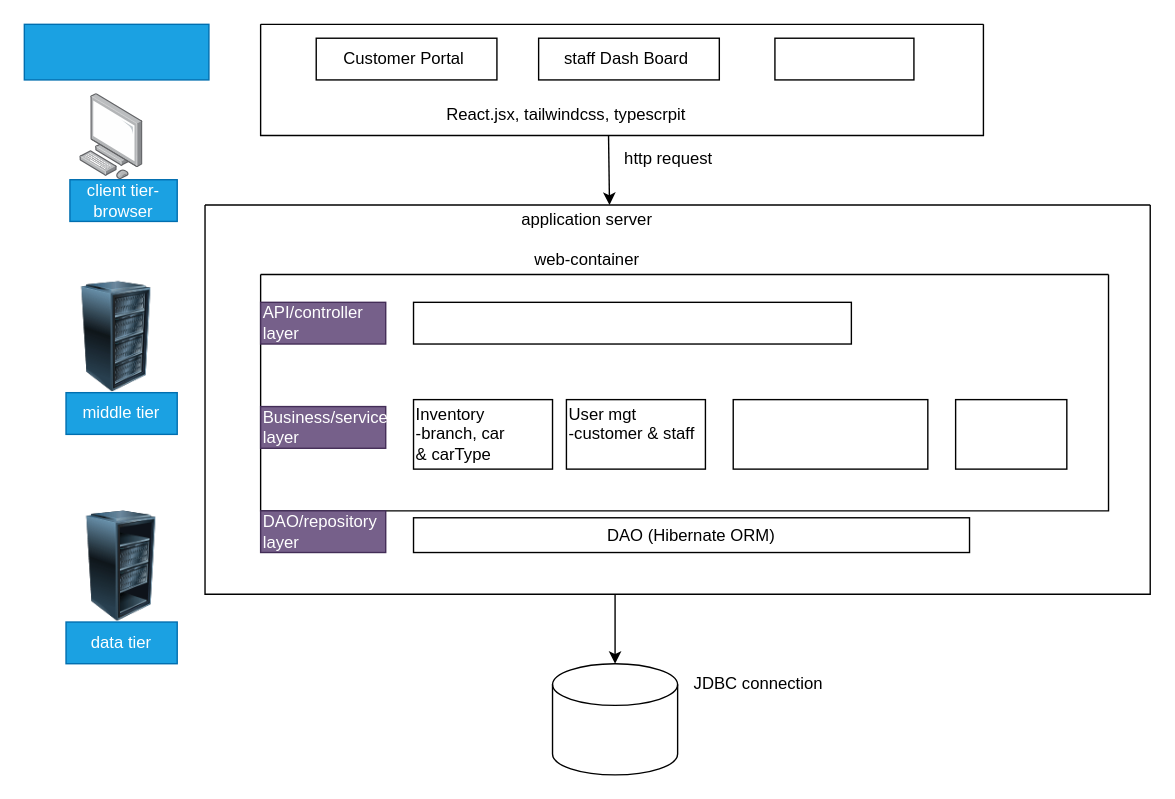
This 1175x799 diagram has some shape labels left out. The box of each missing label's shape, as (x1, y1, x2, y2) in pixels:
Billing -payment: (954, 398, 1067, 469)
payment UI: (774, 37, 914, 80)
physical tiers: (23, 23, 209, 80)
postgreSQL: (551, 662, 678, 775)
rental mgt -reservation & rental: (732, 398, 928, 469)
spring MVC: (412, 301, 851, 344)
